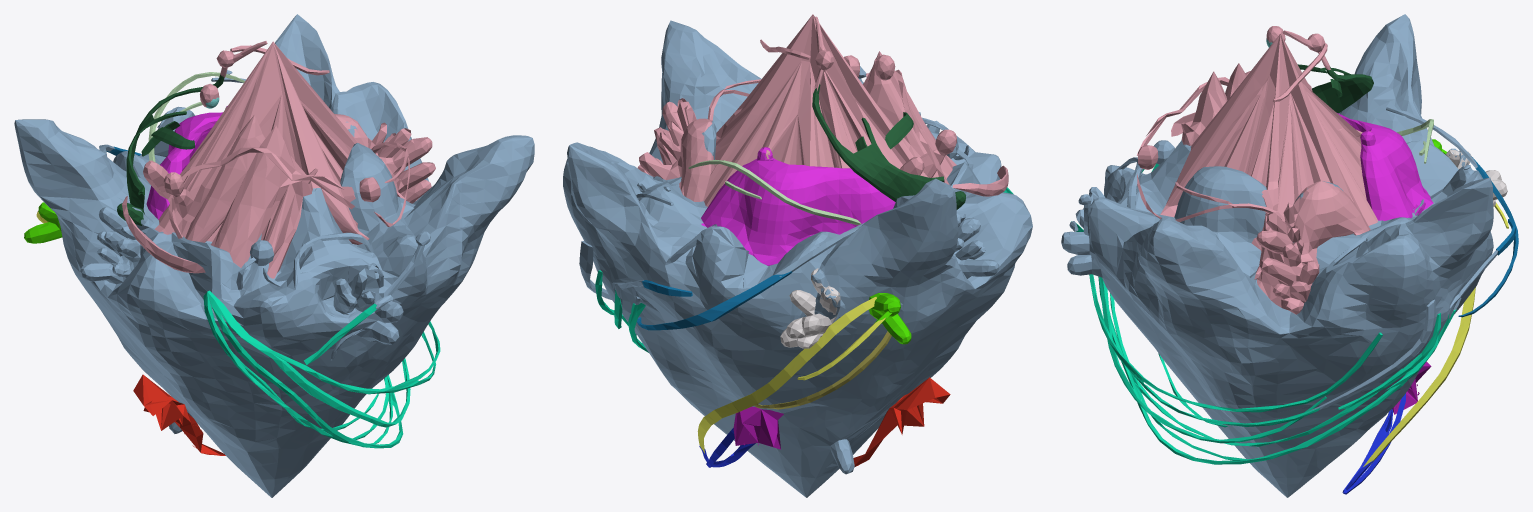
3 views of the same model, side by side, from view 1: azimuth 30°, elevation 25°; view 2: azimuth 150°, elevation 25°; view 3: azimuth 270°, elevation 25° (orthographic). The views are drawn at different scales.
Parts seen in each view (by area): view 1: part_0, part_10, part_11, part_3, part_1, part_5, part_4, part_12; view 2: part_0, part_10, part_5, part_3, part_2, part_6, part_1, part_13, part_8, part_12, part_4, part_9 (+2 smaller); view 3: part_0, part_10, part_11, part_5, part_2, part_3, part_7, part_13, part_6.
Part boxes in pixels (left/top/right/bottom): part_0: left=14, top=14, right=534, bottom=497; part_10: left=122, top=41, right=435, bottom=278; part_11: left=203, top=290, right=440, bottom=448; part_3: left=117, top=74, right=223, bottom=225; part_1: left=133, top=374, right=225, bottom=455; part_5: left=146, top=106, right=227, bottom=219; part_4: left=24, top=202, right=62, bottom=243; part_12: left=148, top=72, right=244, bottom=162; part_0: left=563, top=20, right=1032, bottom=497; part_10: left=637, top=14, right=1008, bottom=206; part_5: left=701, top=147, right=895, bottom=265; part_3: left=812, top=84, right=965, bottom=209; part_2: left=697, top=297, right=885, bottom=453; part_6: left=780, top=268, right=840, bottom=348; part_1: left=853, top=377, right=950, bottom=466; part_13: left=637, top=271, right=792, bottom=330; part_8: left=733, top=406, right=783, bottom=449; part_12: left=688, top=160, right=861, bottom=225; part_4: left=869, top=293, right=911, bottom=344; part_9: left=754, top=331, right=891, bottom=409; part_0: left=1061, top=14, right=1498, bottom=497; part_10: left=1137, top=26, right=1377, bottom=314; part_11: left=1071, top=163, right=1456, bottom=464; part_5: left=1337, top=113, right=1433, bottom=220; part_2: left=1363, top=202, right=1508, bottom=466; part_3: left=1297, top=64, right=1373, bottom=113; part_7: left=1342, top=393, right=1405, bottom=494; part_13: left=1458, top=157, right=1518, bottom=317; part_6: left=1446, top=149, right=1507, bottom=206.
Bounding box in the file's own units: 0.8933 × 0.9949 × 0.8905.
